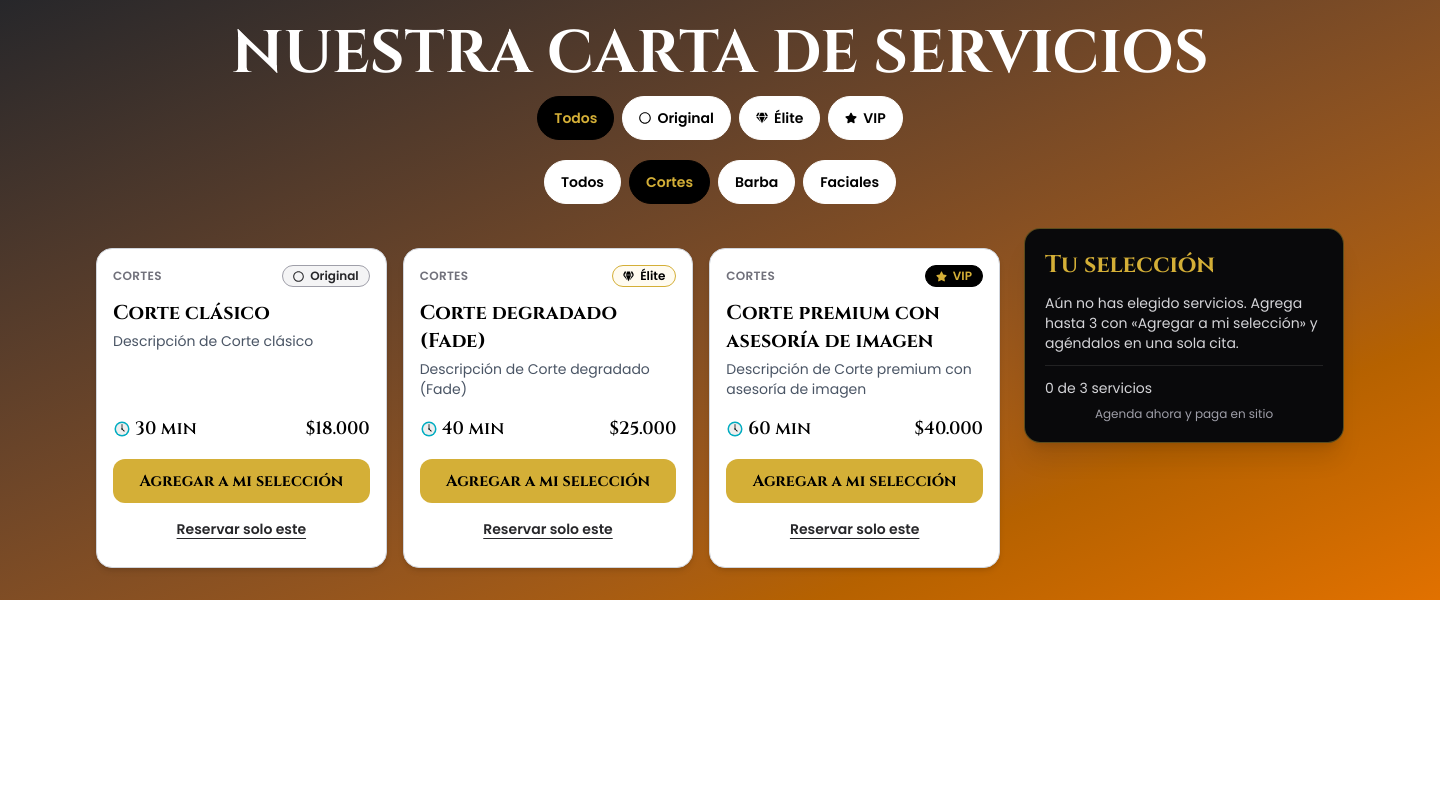
it: CatalogoServicios › "Todos" muestra todas las categorías con su encabezado h3 y los nombres pasan a h4
Expected: the element named "Filtrar servicios" is shown, [537,96,903,204]
Click the 2nd button "Todos" at x=582, y=182, box [544,160,621,204]
(page scrolled)
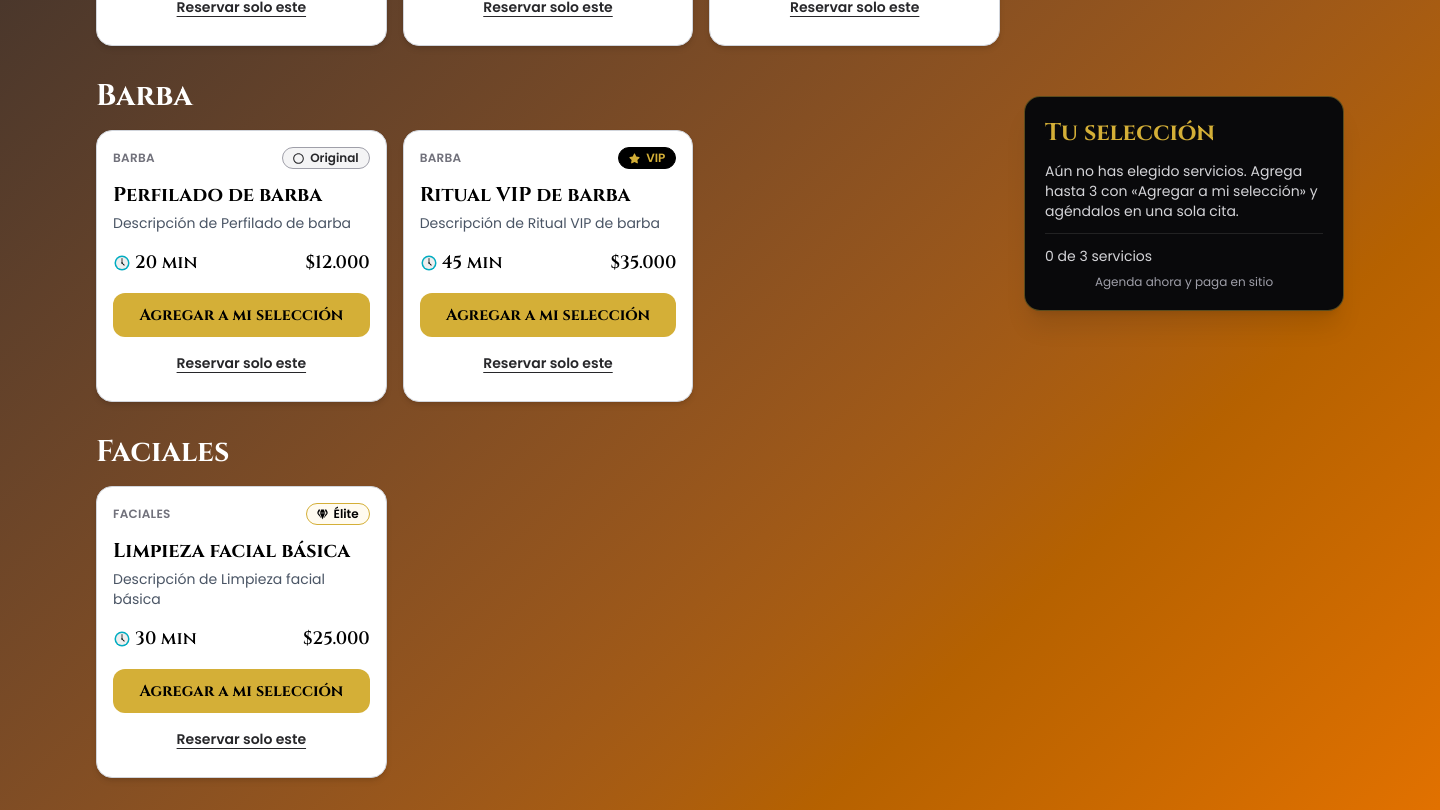
Expected: the heading "Barba" is shown, [96,76,192,116]
Expected: the heading "Faciales" is shown, [96,432,229,472]
Expected: the heading "Limpieza facial básica" is shown, [113,537,370,565]
